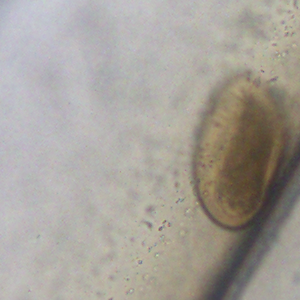Fasciola_hepatica_egg: (191, 67, 288, 231)
